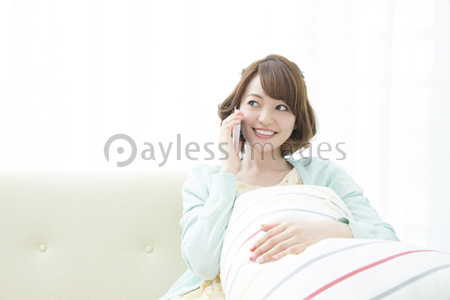phone: (218, 107, 247, 153)
talk: (216, 89, 292, 163)
